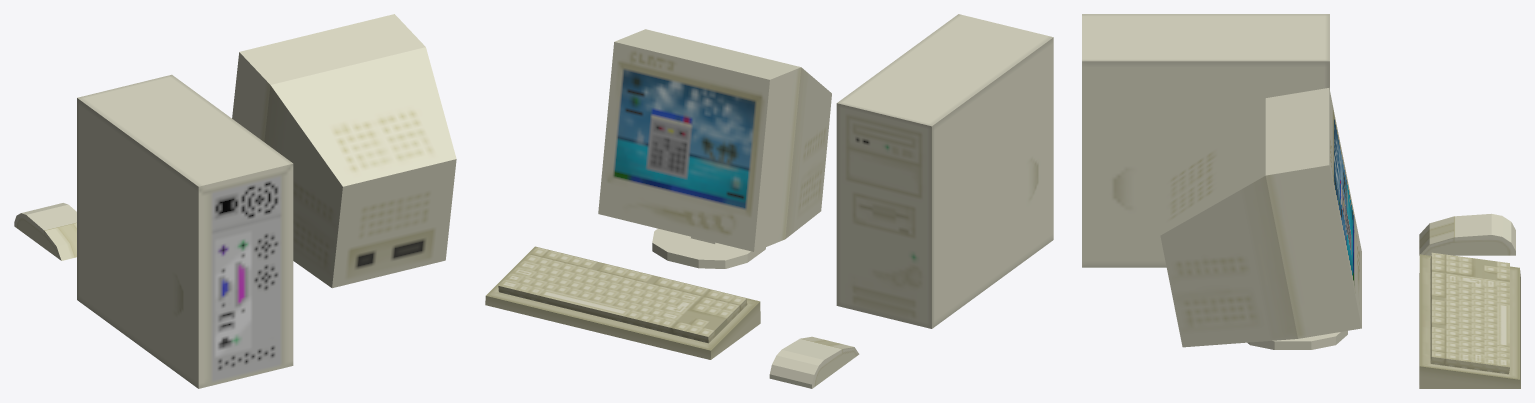
The picture shows the model from 3 angles, left to right: view 1: azimuth 30°, elevation 25°; view 2: azimuth 150°, elevation 25°; view 3: azimuth 270°, elevation 25°; orthographic projection. The views are drawn at different scales.
Visible parts, largest first — view 1: Case, MonitorOn, Mouse; view 2: Case, MonitorOn, Keyboard, Mouse; view 3: MonitorOn, Case, Keyboard, Mouse.
Boxes of the visible parts, x1=… form: Case: x1=77, y1=74, x2=293, y2=388; MonitorOn: x1=232, y1=14, x2=456, y2=288; Mouse: x1=14, y1=203, x2=76, y2=260; Case: x1=836, y1=14, x2=1053, y2=328; MonitorOn: x1=598, y1=29, x2=831, y2=268; Keyboard: x1=485, y1=246, x2=760, y2=359; Mouse: x1=769, y1=336, x2=859, y2=388; MonitorOn: x1=1160, y1=88, x2=1361, y2=349; Case: x1=1082, y1=14, x2=1329, y2=267; Keyboard: x1=1419, y1=252, x2=1520, y2=388; Mouse: x1=1419, y1=213, x2=1515, y2=255.
Size of the model in its own units: 964 by 546 by 1020.
